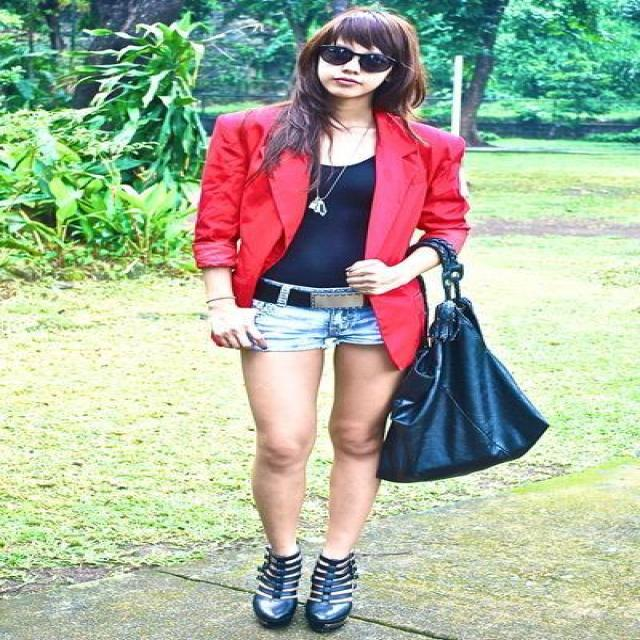bag: (373, 236, 549, 482)
jacket: (194, 101, 491, 370)
shirt: (262, 151, 326, 268)
shoe: (250, 547, 356, 626)
shorts: (250, 286, 382, 370)
sunglass: (355, 51, 402, 81)
